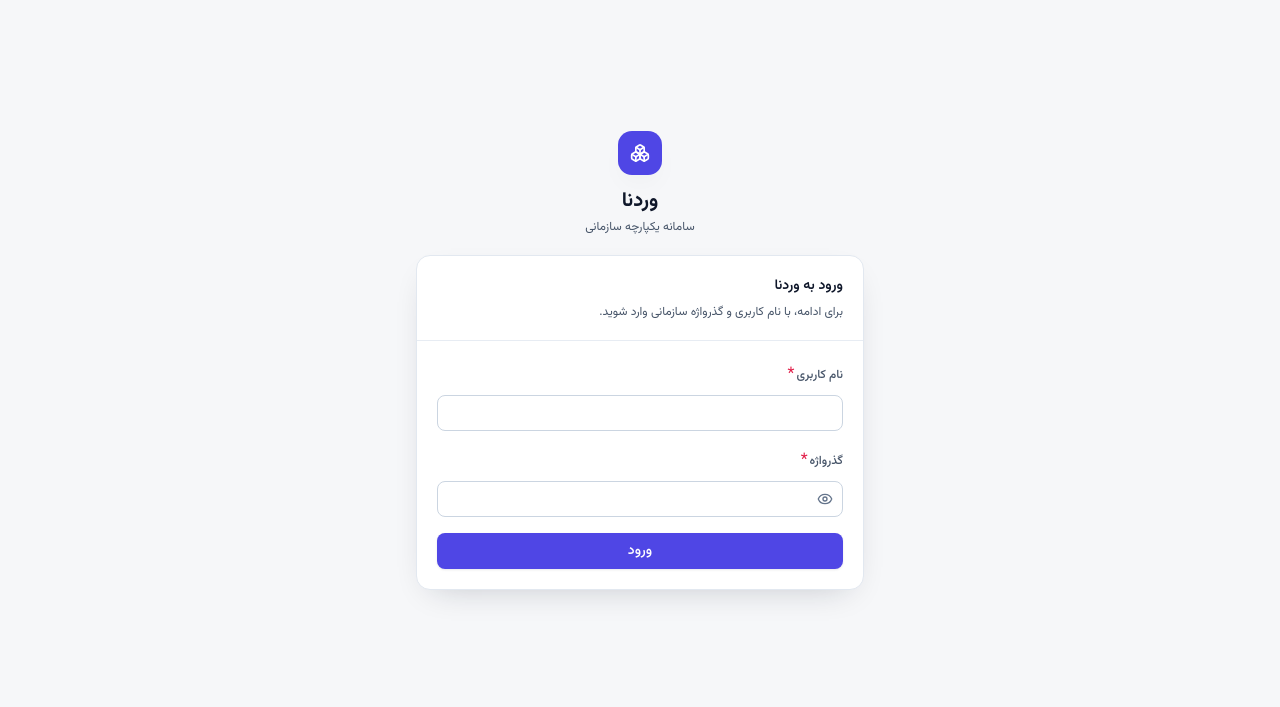
Test: login flow › enters the application shell after a successful login
In the field labelled "نام کاربری": (640, 412) [437, 394, 843, 430], type "accountant"
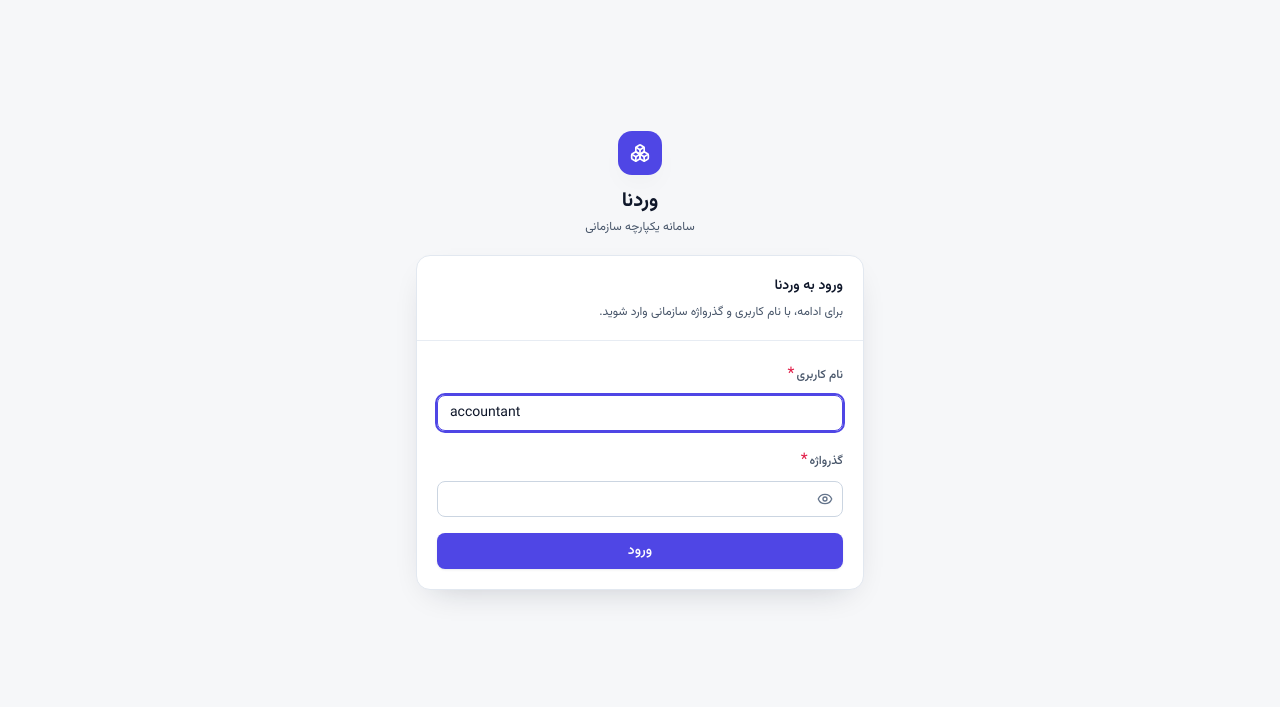
In the password field labelled "گذرواژه": (640, 498) [437, 480, 843, 516], type "correct-password"
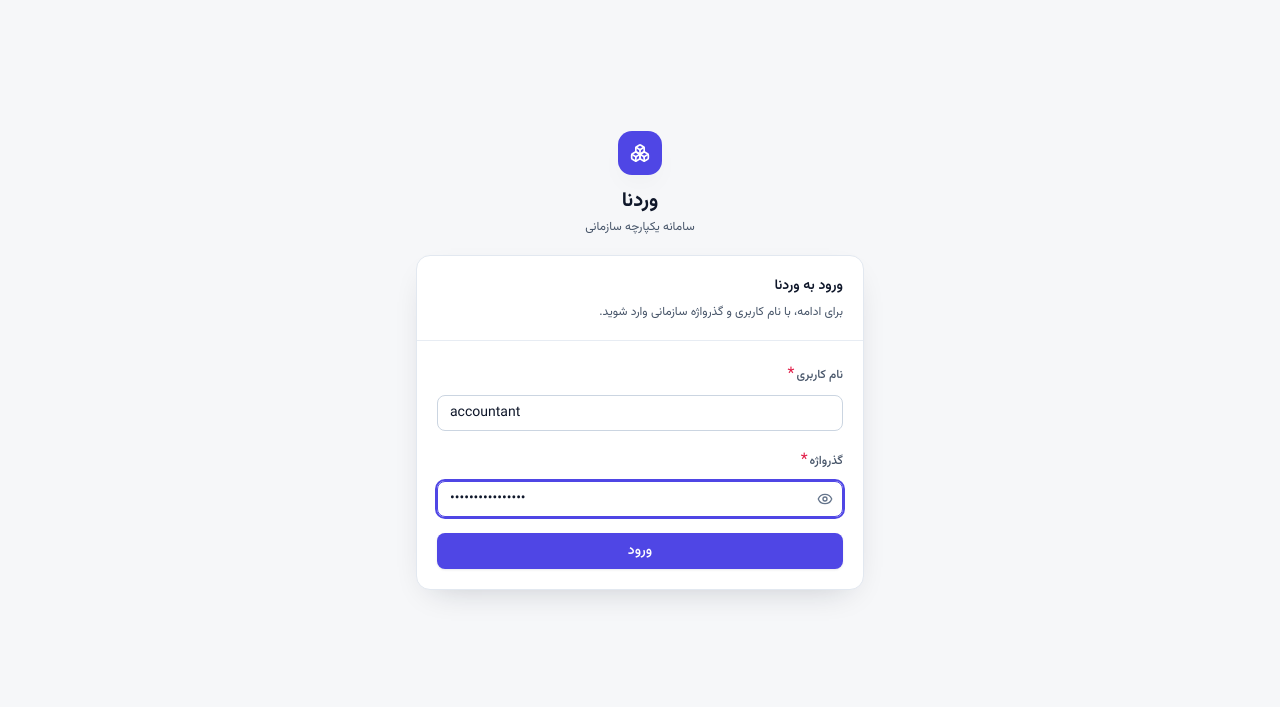
Click the button "ورود": (640, 550) [437, 532, 843, 568]
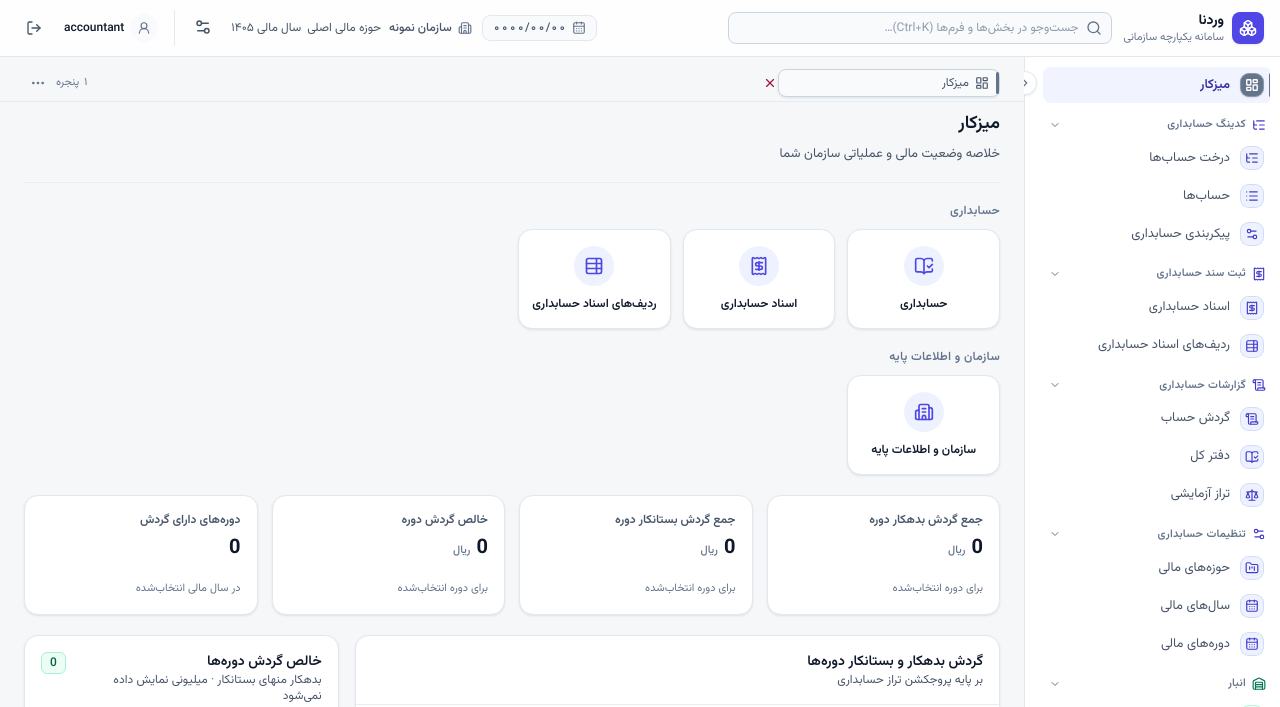
Expected: the heading "میزکار" is shown, [958, 110, 1000, 138]
Expected: the button named "خروج" is shown, [16, 10, 52, 46]
